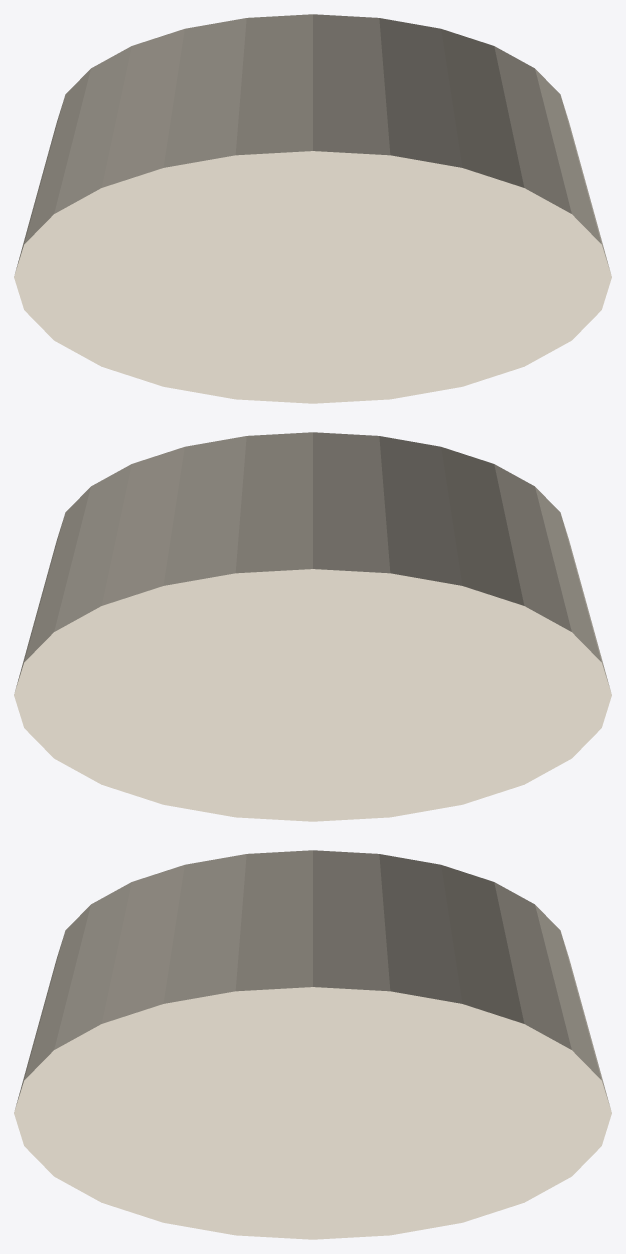
The model's file is colosseum.glb.
The picture shows the model from 3 angles, top to bottom: view 1: azimuth 30°, elevation 25°; view 2: azimuth 150°, elevation 25°; view 3: azimuth 270°, elevation 25°; orthographic projection.
Parts seen in each view (by area): view 1: colosseum; view 2: colosseum; view 3: colosseum.
Boxes of the visible parts, bbox=[...] form: colosseum: bbox=[14, 14, 611, 403]; colosseum: bbox=[14, 432, 611, 821]; colosseum: bbox=[14, 850, 611, 1239].
Size of the model in its own units: 1.4 by 0.4 by 1.4.
